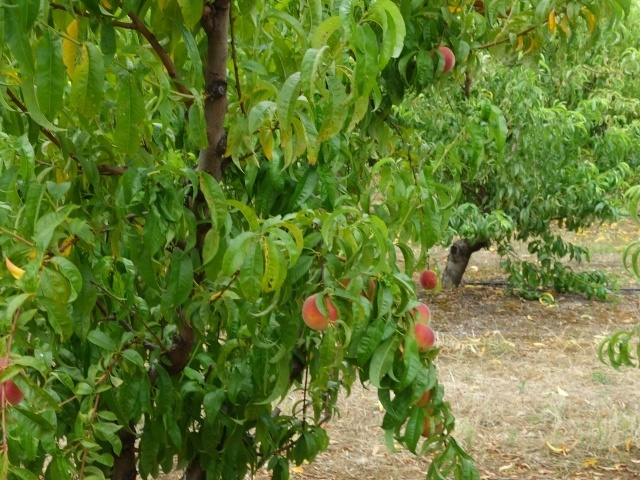peach: (296, 290, 343, 337), (1, 353, 36, 411), (402, 321, 439, 355), (414, 403, 444, 442), (429, 42, 460, 76), (405, 299, 436, 332), (417, 267, 442, 293)
